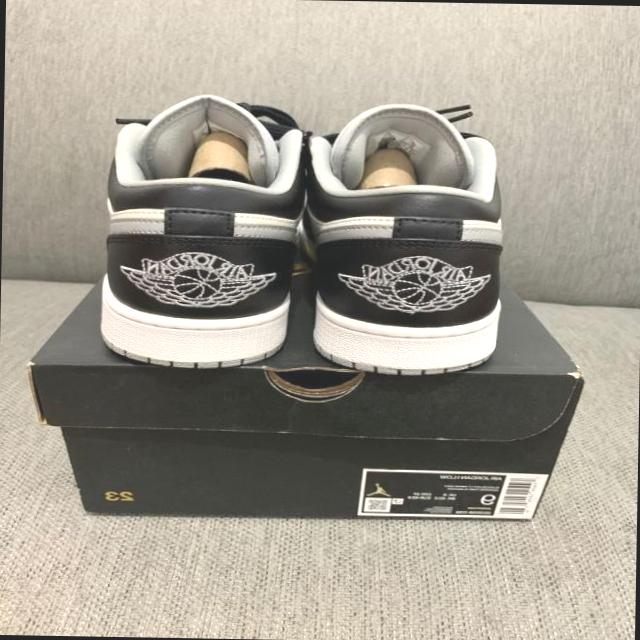nike_fake_jordan: (91, 88, 310, 367), (293, 98, 504, 380)
